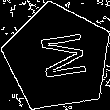M_W: (29, 31, 86, 85)
